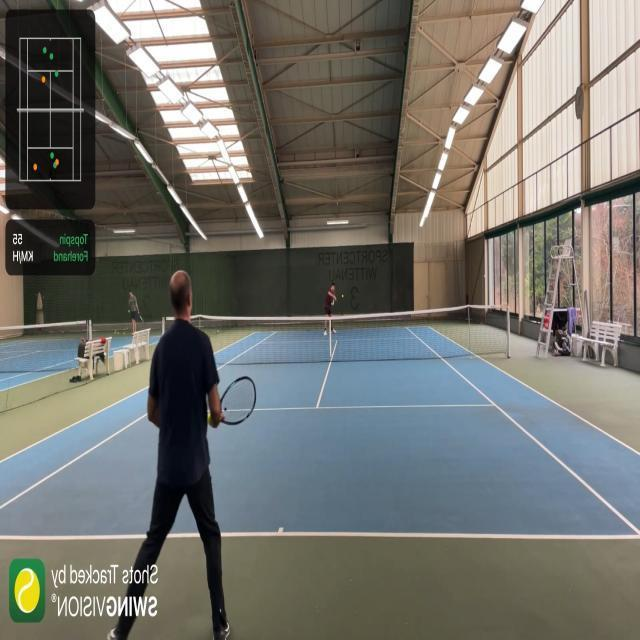court: (0, 326, 640, 542)
net: (160, 301, 512, 369)
player: (104, 268, 256, 640)
